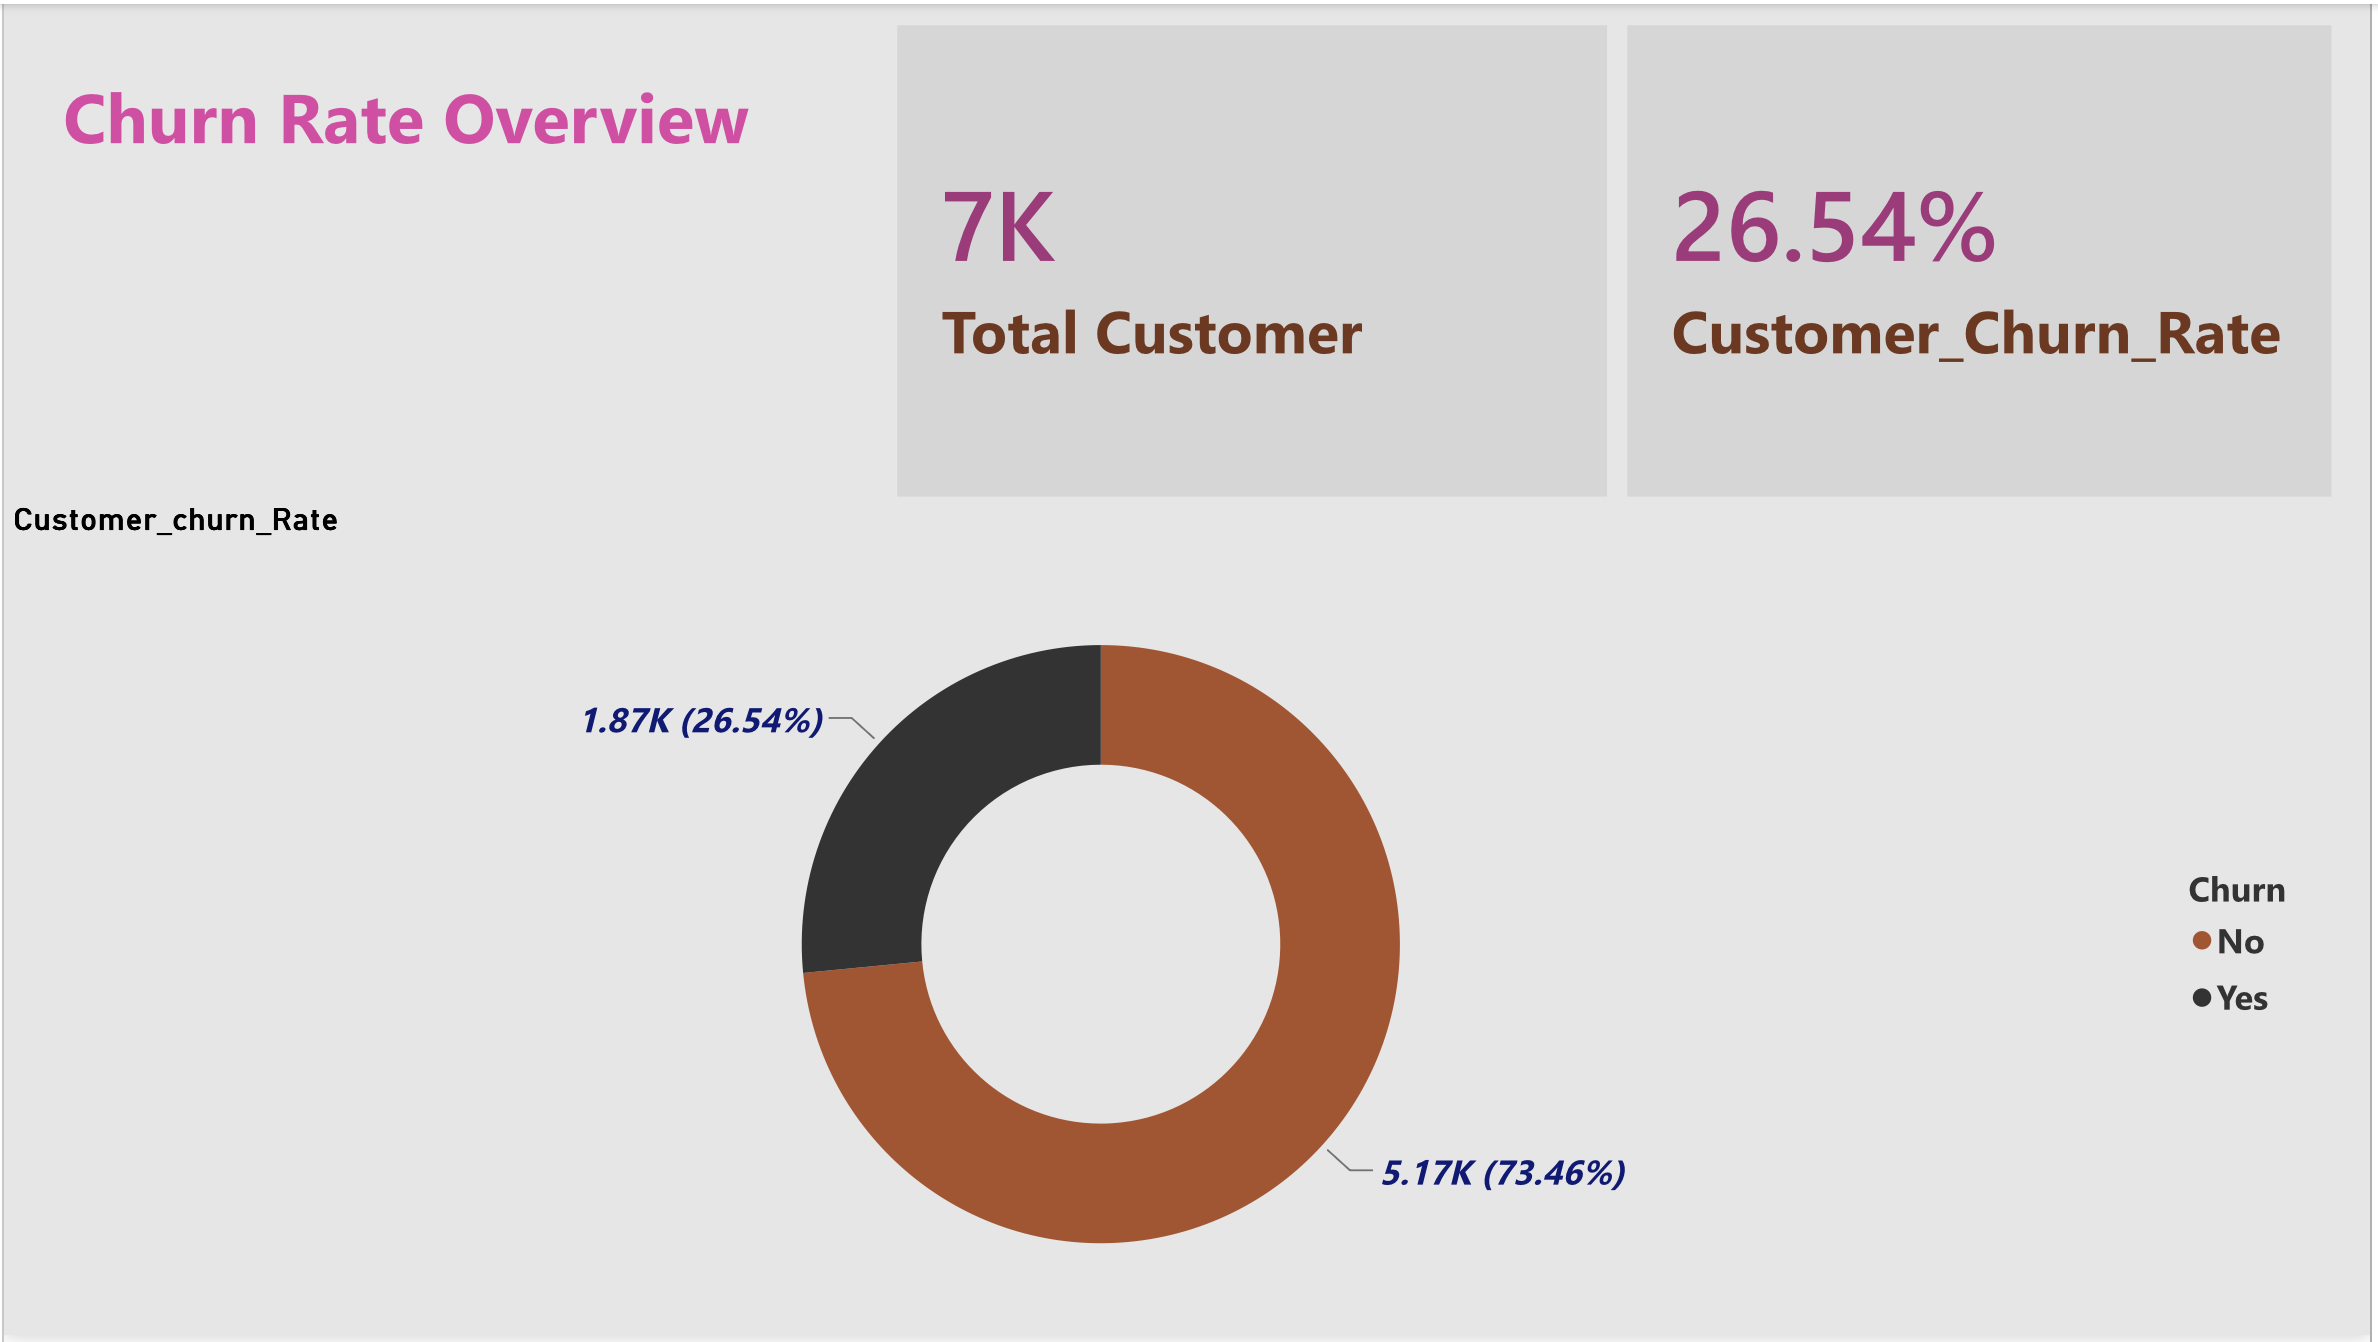

This screenshot's page, from the dashboard's own definition file:
{"tool":"powerbi","page":{"name":"Churn Rate Overview","canvas":[1280,720],"ordinal":0},"visuals":[{"type":"cardVisual","fields":{"Data":["Telco_Customer_Churn_Dataset  (2).Churn Rate"]},"box":[873.2,6.3,391.6,265.3],"z":0},{"type":"donutChart","title":"Customer_churn_Rate","fields":{"Category":["Telco_Customer_Churn_Dataset  (2).Churn"],"Y":["CountNonNull(Telco_Customer_Churn_Dataset  (2).Churn)"]},"box":[0,271.6,1264.8,448.4],"z":1000},{"type":"cardVisual","fields":{"Data":["Telco_Customer_Churn_Dataset  (2).Total Customer"]},"box":[478.4,6.3,394.7,265.3],"z":2000},{"type":"textbox","box":[26.8,30,396.3,75.8],"z":3000}]}

Visuals, with their boxes in screenshot pixels (x1, y1, x2, y2), scaled from the page's 1280x720 canvas onto the 2378x1342 screenshot:
cardVisual - Telco_Customer_Churn_Dataset  (2).Churn Rate: pyautogui.locateOnScreen(1622, 12, 2350, 506)
"Customer_churn_Rate" donutChart: pyautogui.locateOnScreen(0, 506, 2350, 1341)
cardVisual - Telco_Customer_Churn_Dataset  (2).Total Customer: pyautogui.locateOnScreen(889, 12, 1622, 506)
textbox: pyautogui.locateOnScreen(50, 56, 786, 197)
